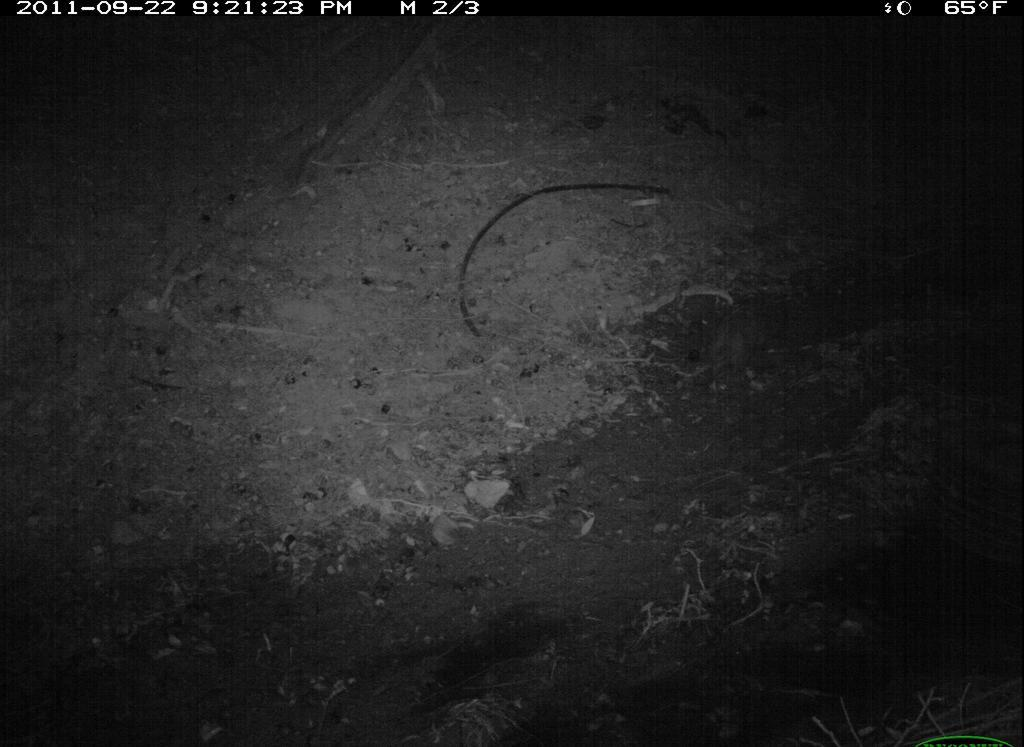opossum: (683, 285, 800, 389)
